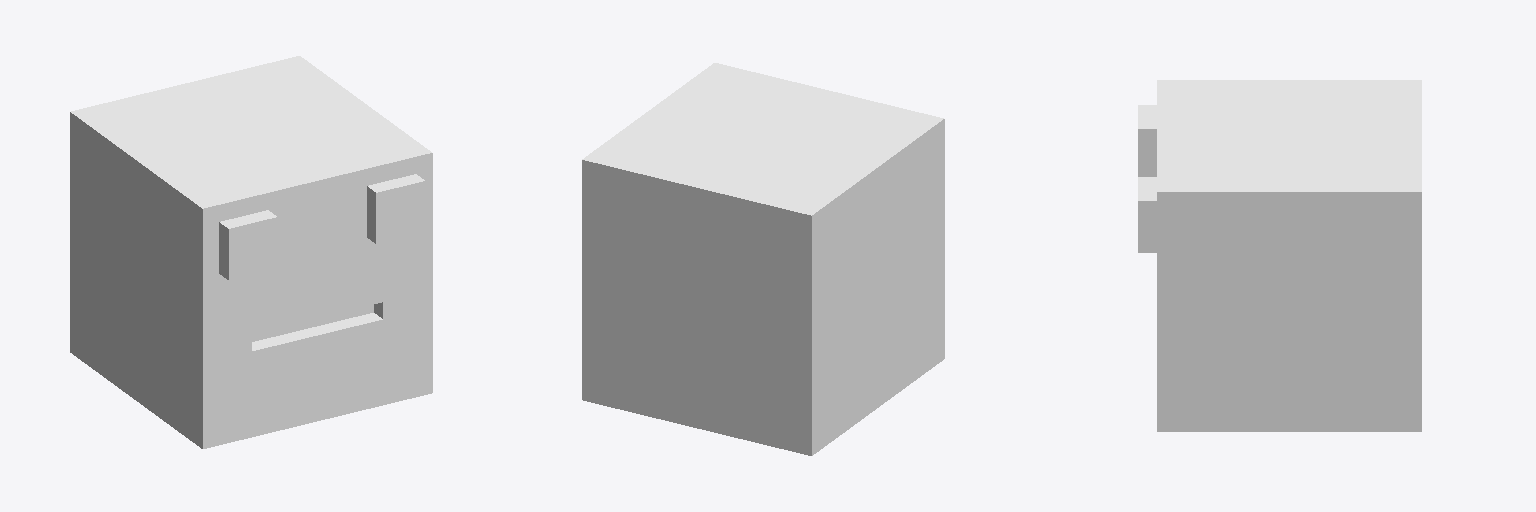
The model's file is bomb3.obj.
3 views of the same model, side by side, from view 1: azimuth 30°, elevation 25°; view 2: azimuth 150°, elevation 25°; view 3: azimuth 270°, elevation 25° (orthographic).
Bounding box in the file's own units: 14 × 14 × 15.